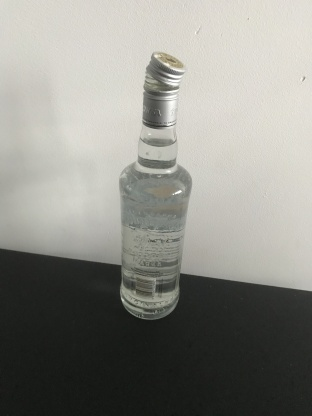nakretka: (140, 49, 187, 130)
